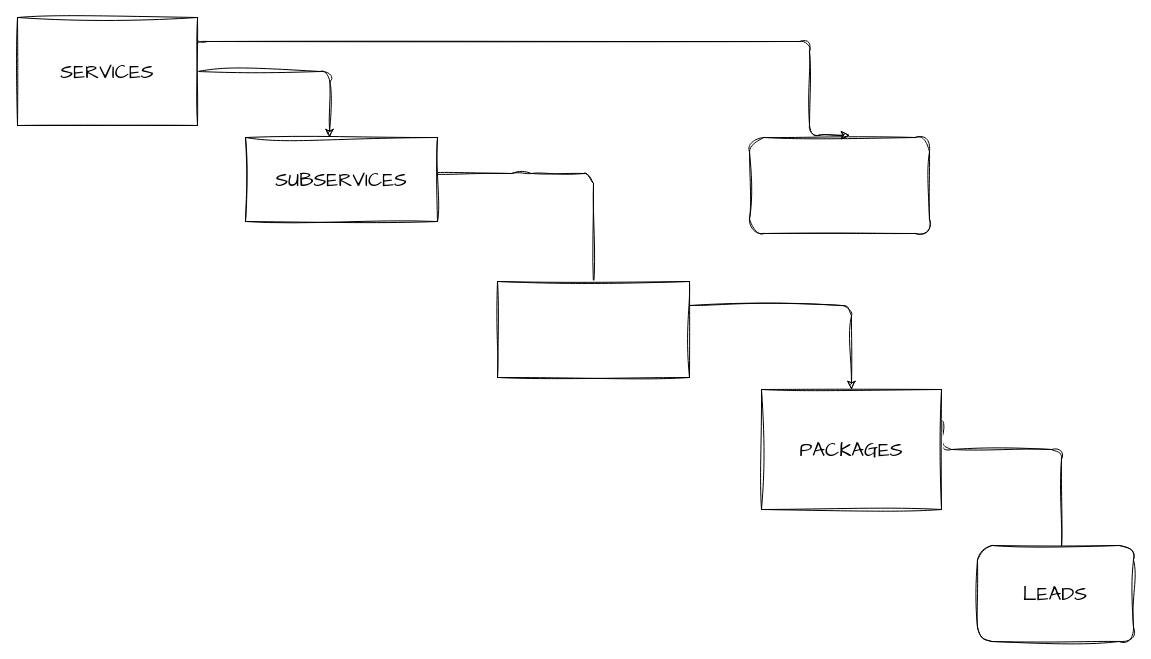
Some shapes in this 1151 by 659 pixel diagram are drawn without their labels. The centre of each missing label's shape, as x and y in pixels:
MINI SUBSERVICE: the point at 593,329
ROLES: the point at 839,185
